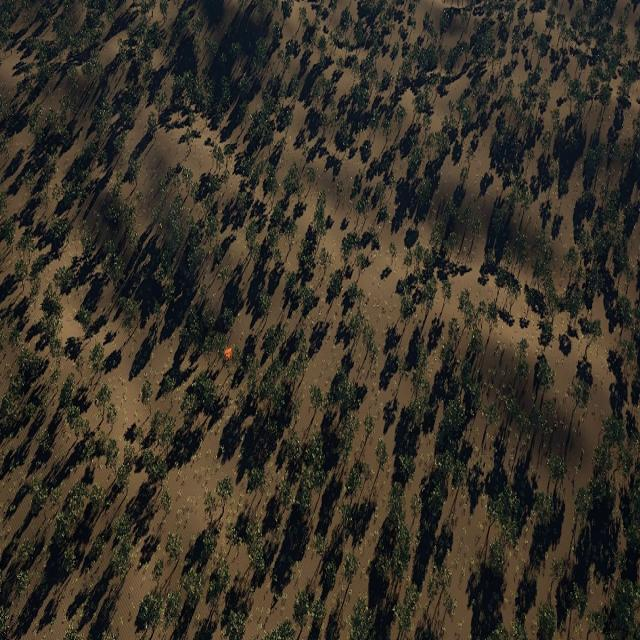fire: (223, 347, 232, 360)
